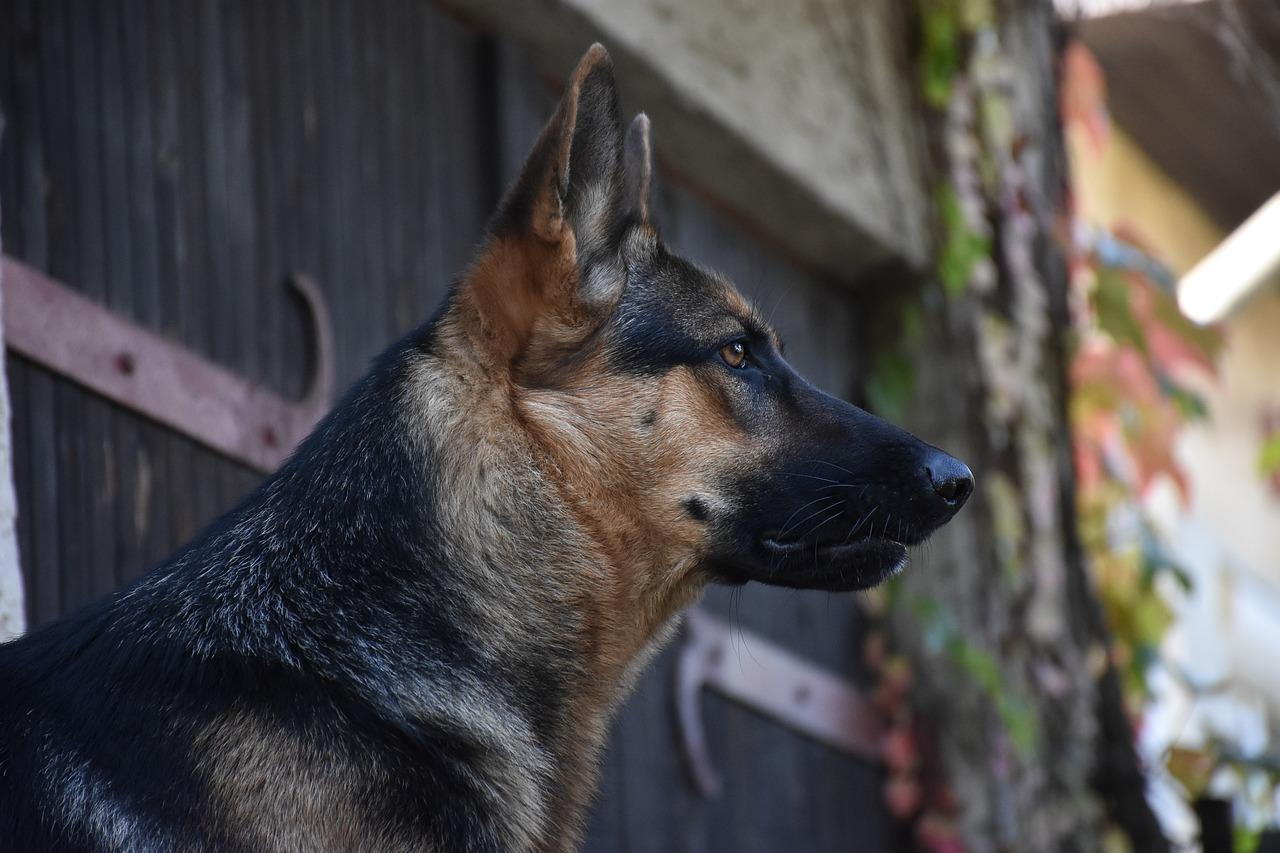german_shepherd: (491, 59, 986, 670)
